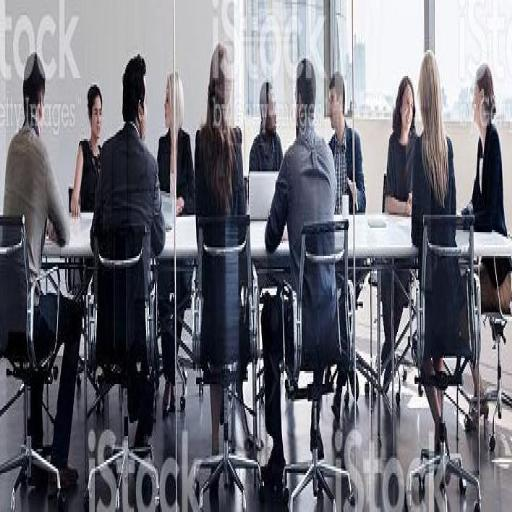person: (91, 55, 164, 282), (265, 59, 336, 290), (412, 50, 456, 262), (34, 293, 81, 488), (195, 44, 245, 219), (469, 63, 506, 236), (329, 72, 365, 214), (158, 263, 190, 416), (385, 76, 416, 216), (71, 85, 102, 216), (249, 81, 282, 171)
